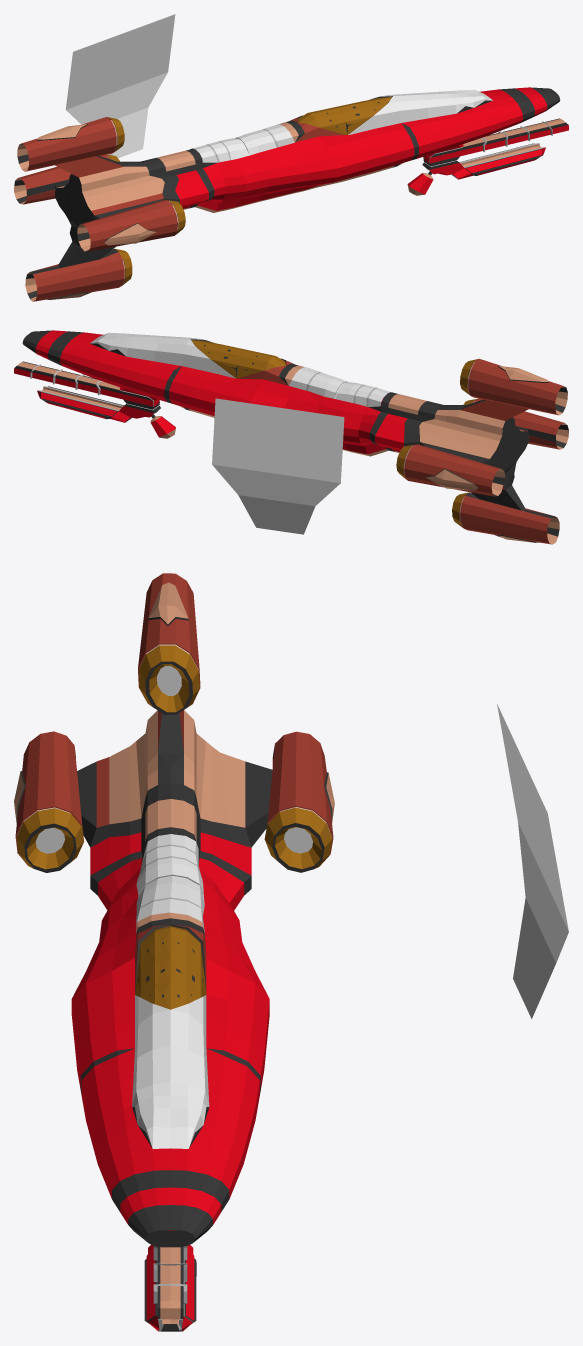
3 renders of one model, top to bottom at view 1: azimuth 30°, elevation 25°; view 2: azimuth 150°, elevation 25°; view 3: azimuth 270°, elevation 25°, orthographic. The views are drawn at different scales.
Parts seen in each view (by area): view 1: WUPGSHIELD, WSShield; view 2: WUPGSHIELD, WSShield; view 3: WUPGSHIELD, WSShield.
Boxes of the visible parts, x1,y1,x2,y2 form: WUPGSHIELD: (14,87,568,301); WSShield: (65,14,175,158); WUPGSHIELD: (14,330,568,544); WSShield: (212,398,344,534); WUPGSHIELD: (14,573,334,1331); WSShield: (497,704,568,1018).
Size of the model in its own units: 481 by 144 by 218.
